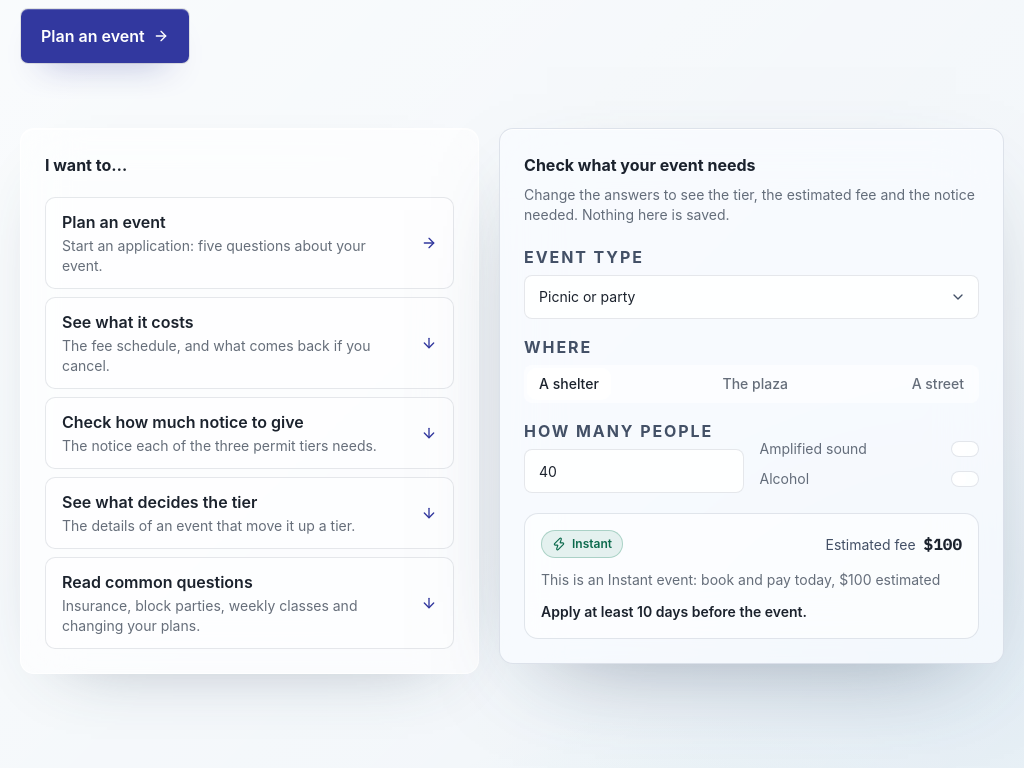
Test: LandingScreen (/) › switching the permit checker to a street moves the tier to Special
(page scrolled)
Step 1. Click the radio button labelled "A street" → (938, 384), box [900,368,976,400]
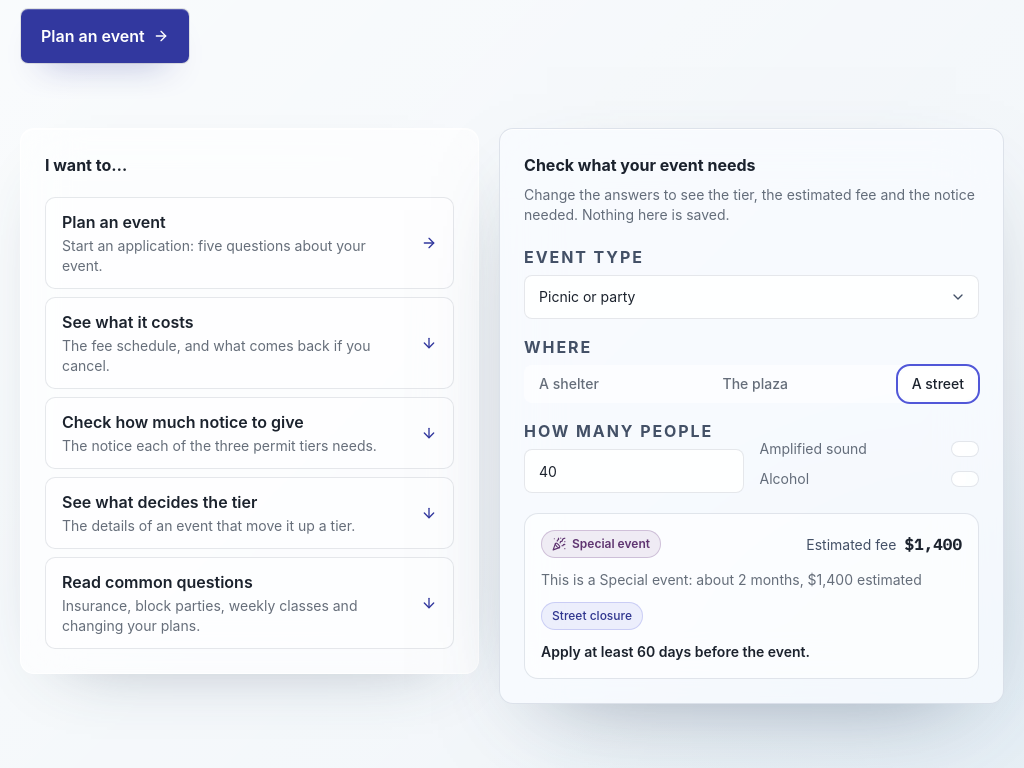
Now the text "Special event" is shown, box [541,530,661,558]
